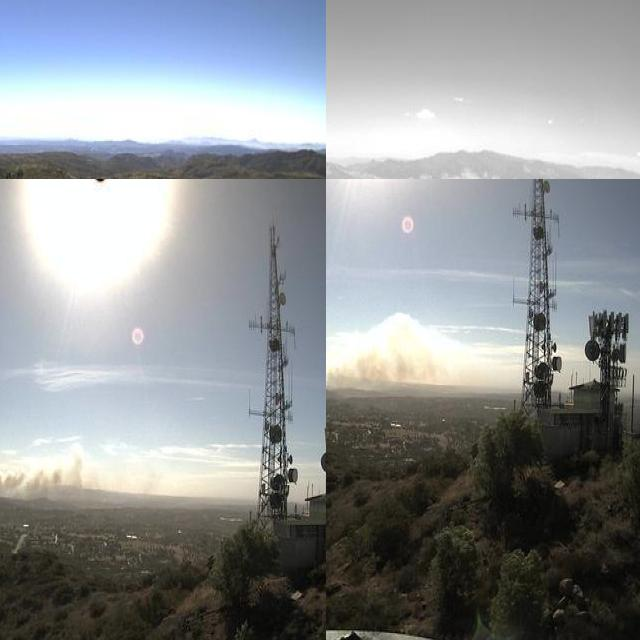smoke: (326, 310, 452, 392), (0, 447, 92, 513)
